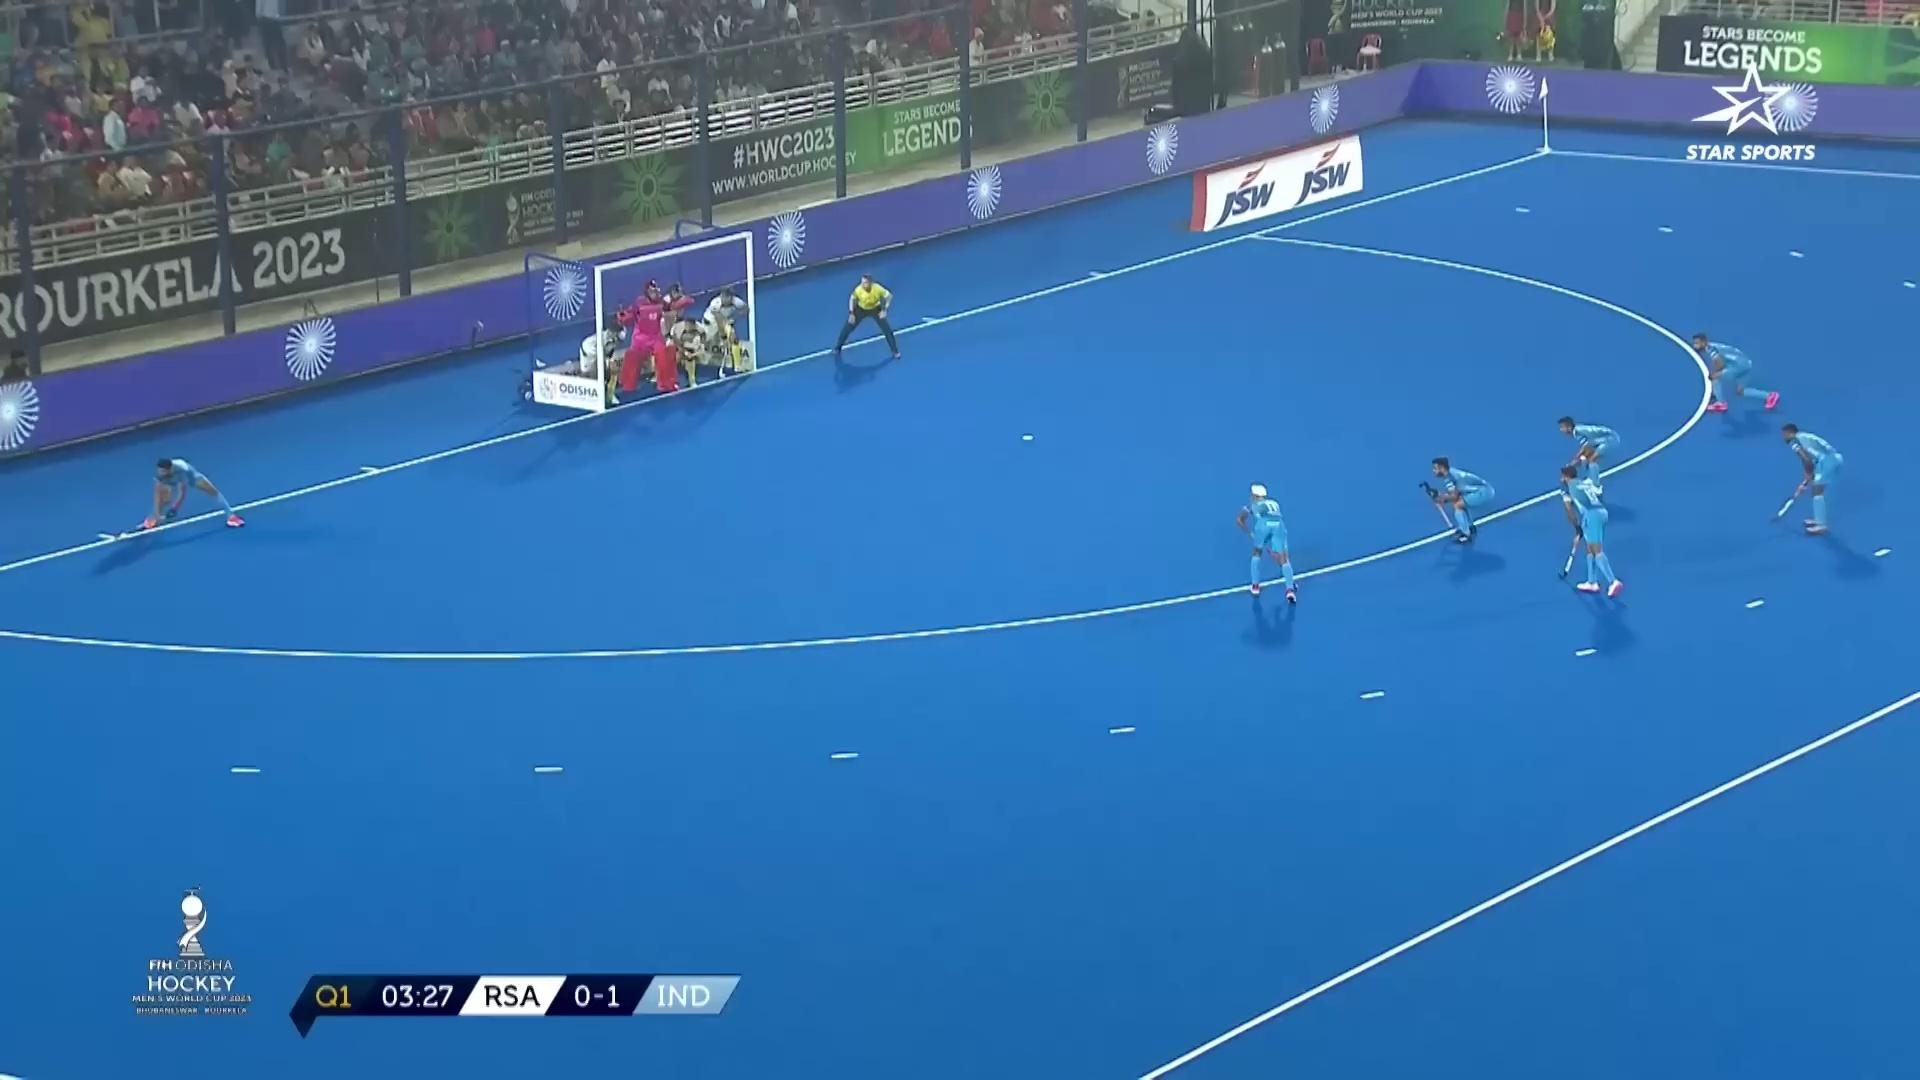ball: (117, 530, 129, 543)
